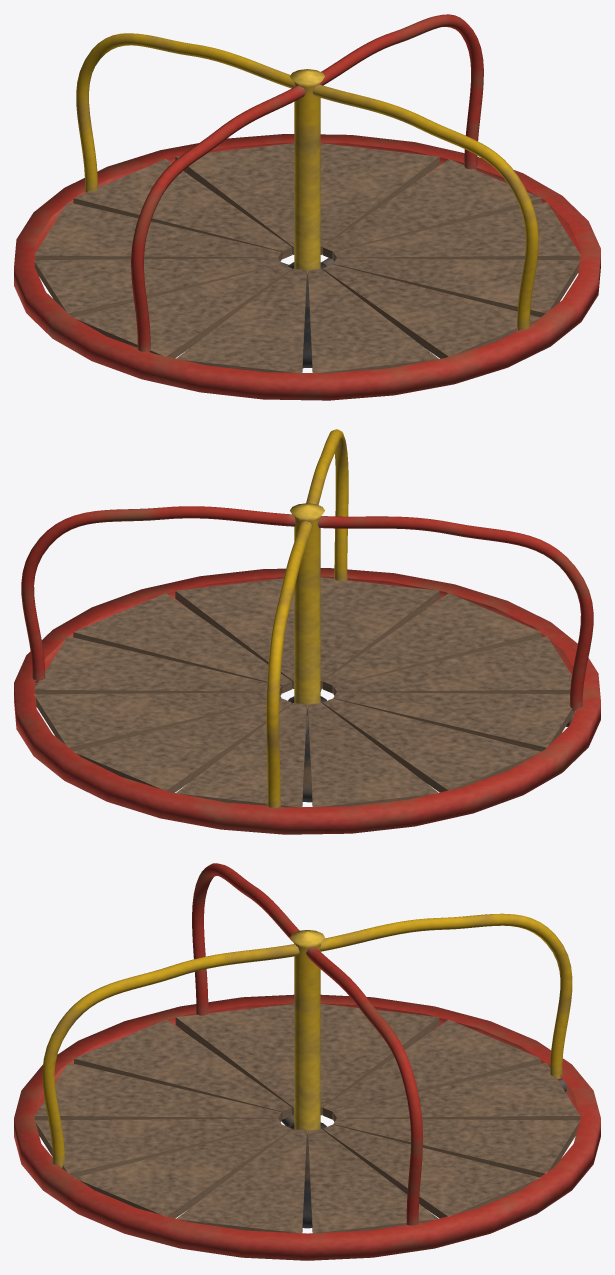
Rendered from plac_karuzela.glb.
The picture shows the model from 3 angles, top to bottom: view 1: azimuth 30°, elevation 25°; view 2: azimuth 150°, elevation 25°; view 3: azimuth 270°, elevation 25°; orthographic projection.
Parts seen in each view (by area): view 1: Deski, Stelaz; view 2: Deski, Stelaz; view 3: Deski, Stelaz.
Part boxes in pixels (<box>): Deski: <box>34,143,580,373</box>; Stelaz: <box>14,14,600,400</box>; Deski: <box>34,577,574,807</box>; Stelaz: <box>14,429,600,834</box>; Deski: <box>34,1003,580,1233</box>; Stelaz: <box>14,863,600,1260</box>.
Bounding box in the file's own units: 2 × 1.04 × 2.
2 materials, 2 textured.
